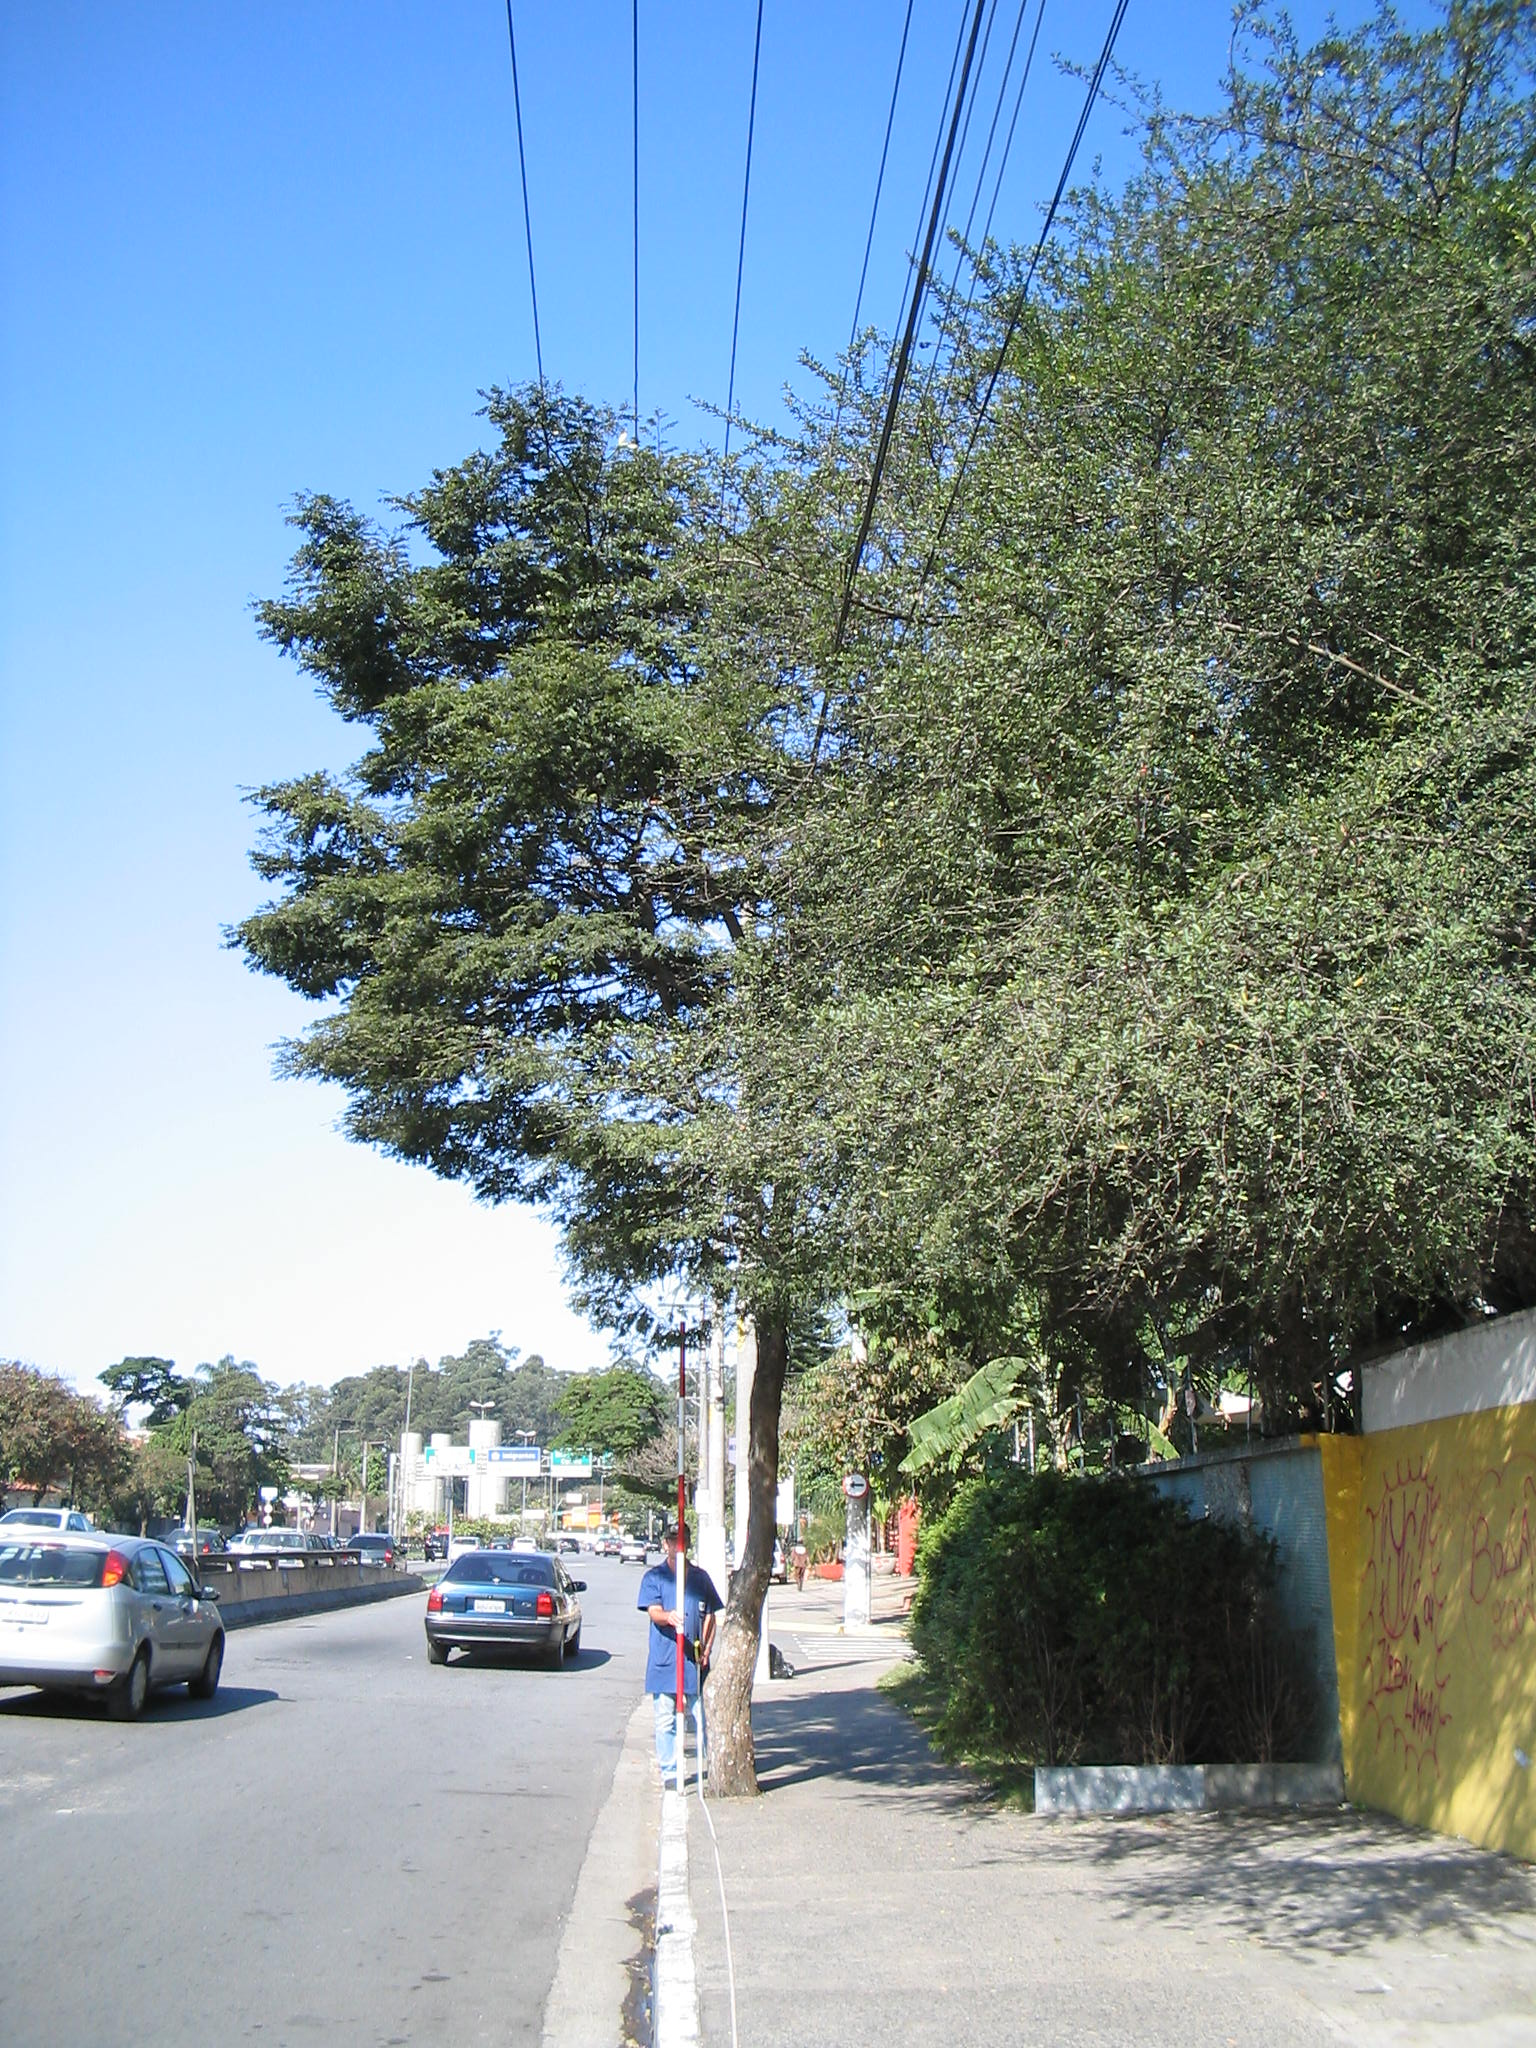crown: (227, 379, 991, 1295)
stem: (695, 1316, 812, 1795)
stick: (662, 1321, 703, 1798)
tree: (224, 379, 1004, 1800)
